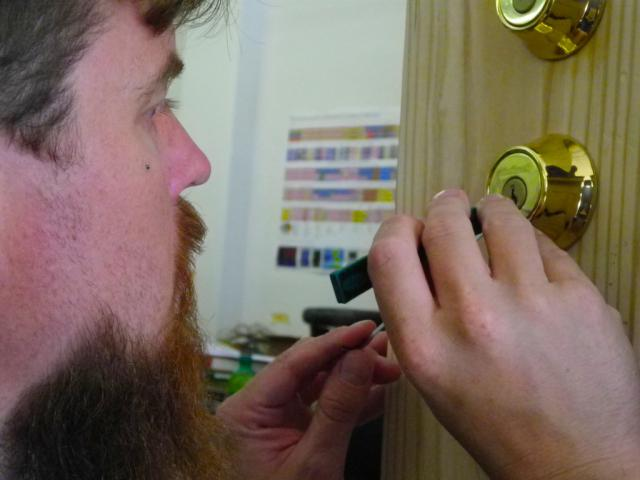Door-handle: (480, 131, 604, 251), (503, 0, 606, 65)
